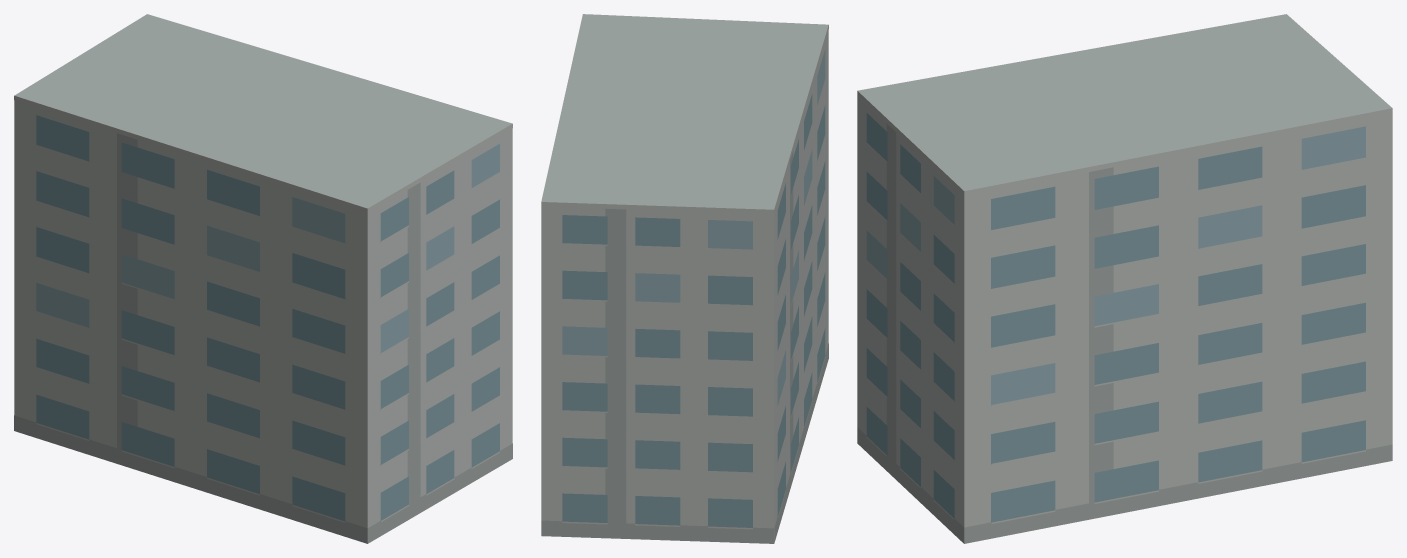
The model's file is survey-upis-32732802.glb.
3 views of the same model, side by side, from view 1: azimuth 30°, elevation 25°; view 2: azimuth 150°, elevation 25°; view 3: azimuth 270°, elevation 25° (orthographic). The views are drawn at different scales.
Parts seen in each view (by area): view 1: survey-upis-32732802.tmp; view 2: survey-upis-32732802.tmp; view 3: survey-upis-32732802.tmp.
Boxes of the visible parts, x1,y1,x2,y2 form: survey-upis-32732802.tmp: (14, 14, 512, 543); survey-upis-32732802.tmp: (541, 14, 828, 543); survey-upis-32732802.tmp: (857, 14, 1392, 543).
Size of the model in its own units: 18.65 by 17.3 by 23.8.
